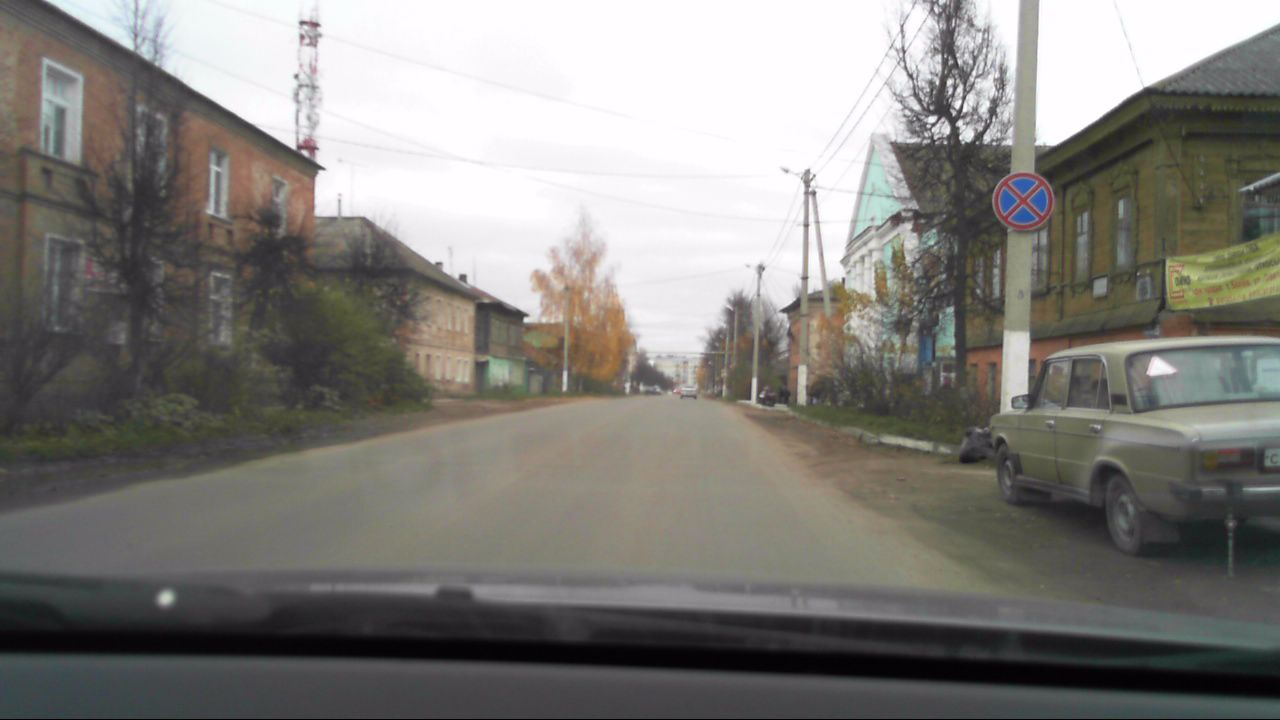No Parking: (991, 170, 1056, 232)
